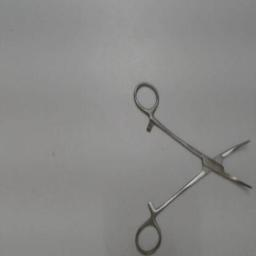Crile Artery Forceps: (130, 78, 254, 254)
